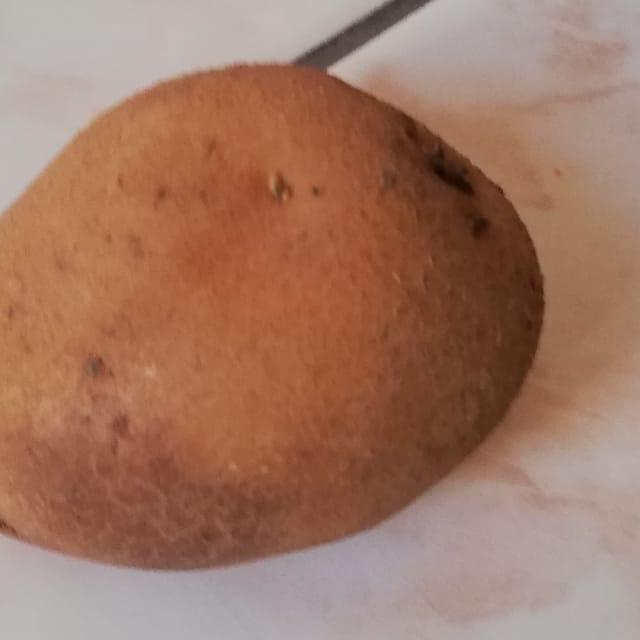potato: (0, 42, 582, 585)
